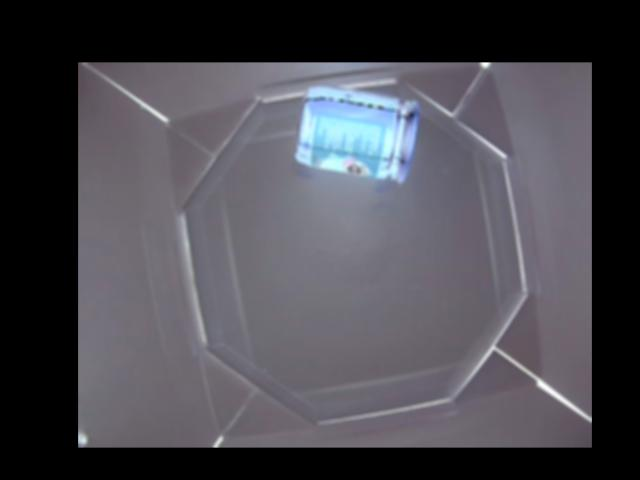Bottle: (294, 83, 420, 184)
